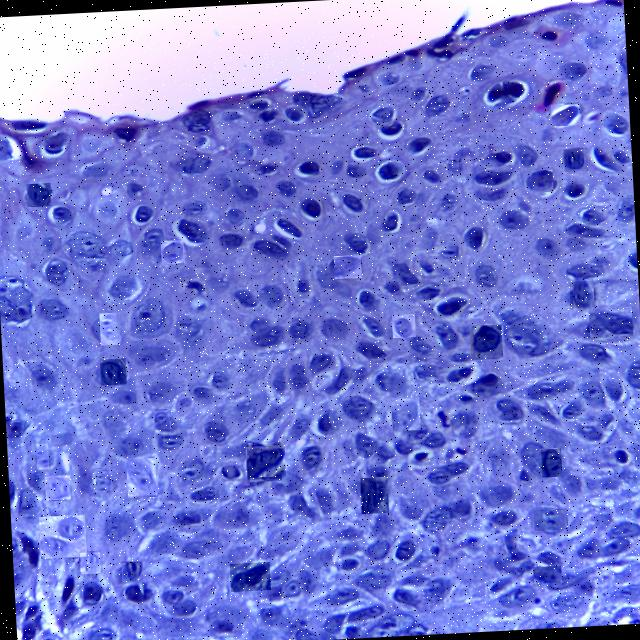Multiple Nucleol: (39, 515, 85, 556), (246, 442, 284, 479), (229, 561, 270, 591), (589, 308, 631, 336), (126, 459, 157, 495), (470, 325, 501, 359), (361, 477, 386, 513), (392, 397, 418, 430), (568, 280, 596, 308), (332, 254, 362, 278), (550, 102, 580, 126), (532, 508, 566, 529), (99, 358, 126, 384), (44, 474, 70, 500), (562, 147, 588, 171), (98, 312, 117, 344), (26, 182, 50, 206), (540, 448, 560, 476), (160, 239, 183, 263), (532, 565, 561, 584), (530, 169, 552, 194), (301, 446, 320, 474), (391, 314, 414, 337), (120, 560, 142, 582), (79, 551, 100, 573), (95, 466, 112, 492), (35, 442, 48, 469), (154, 408, 170, 429)
